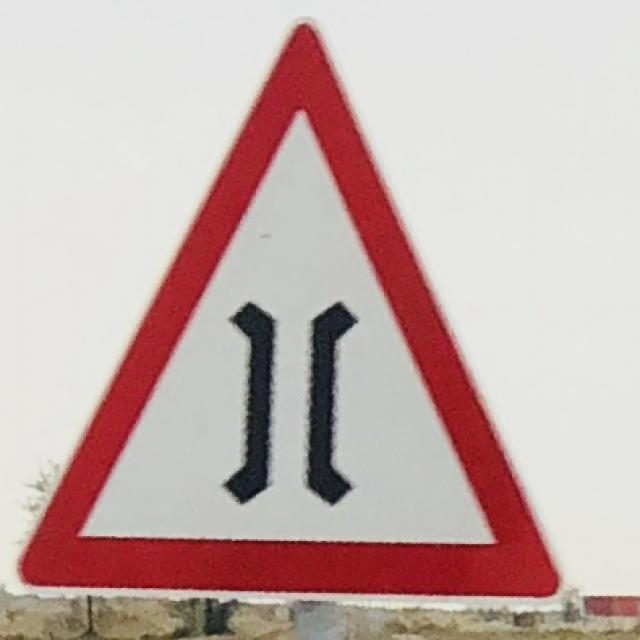narrow bridge ahead: (20, 24, 559, 603)
